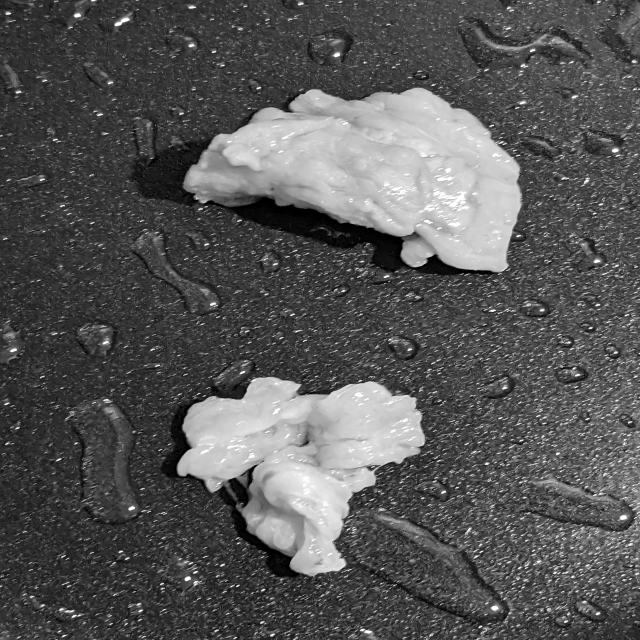NG undercooked pork,: (165, 80, 534, 274), (165, 363, 453, 586)
